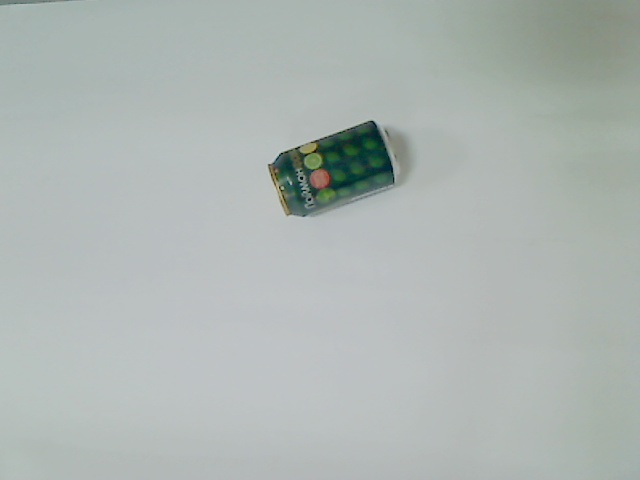can: (267, 119, 405, 218)
